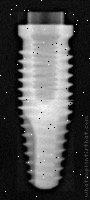Neodent: (17, 12, 74, 191)
